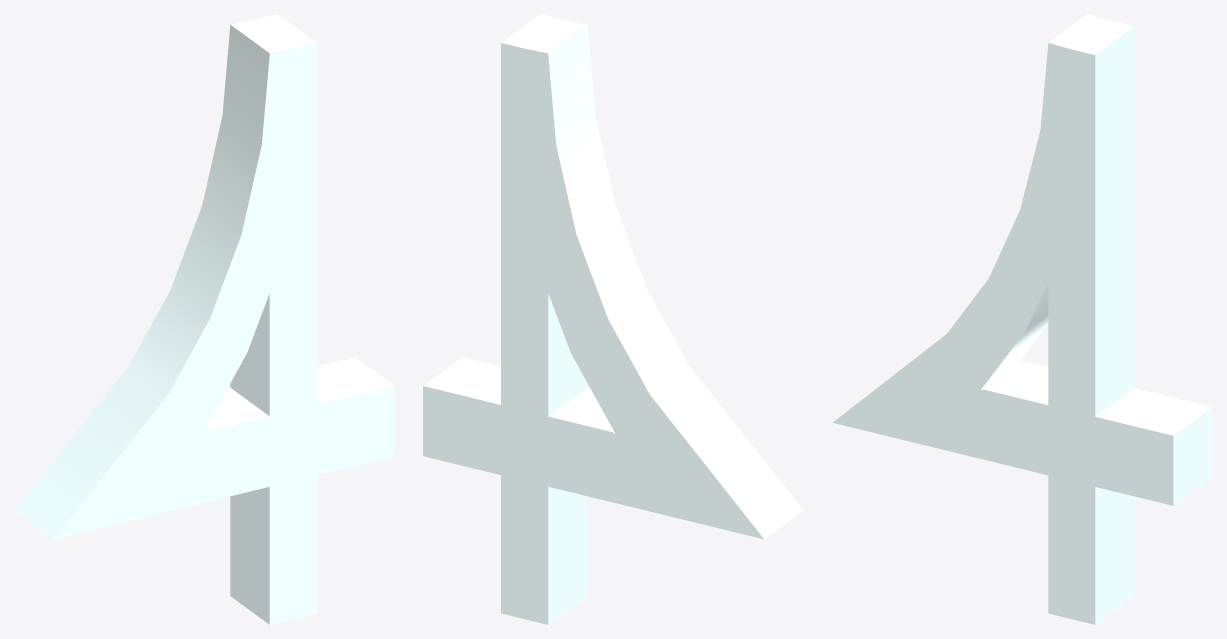
The picture shows the model from 3 angles, left to right: view 1: azimuth 30°, elevation 25°; view 2: azimuth 150°, elevation 25°; view 3: azimuth 330°, elevation 25°; orthographic projection.
Parts seen in each view (by area): view 1: wall_1_1_1_187_193.001; view 2: wall_1_1_1_187_193.001; view 3: wall_1_1_1_187_193.001.
Part boxes in pixels (bbox=[...]): wall_1_1_1_187_193.001: bbox=[14, 14, 394, 624]; wall_1_1_1_187_193.001: bbox=[423, 14, 803, 624]; wall_1_1_1_187_193.001: bbox=[832, 14, 1212, 624].
Size of the model in its own units: 3.52 by 5.63 by 0.7034.
